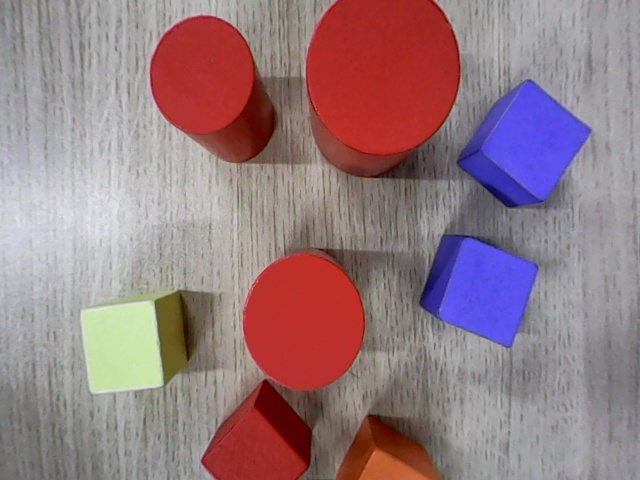upside of cylinder: (306, 0, 463, 154), (242, 254, 365, 391), (149, 15, 254, 134)
upside of small cube: (478, 78, 593, 203), (435, 236, 540, 348), (199, 406, 310, 479), (79, 300, 163, 395), (356, 447, 436, 479)
